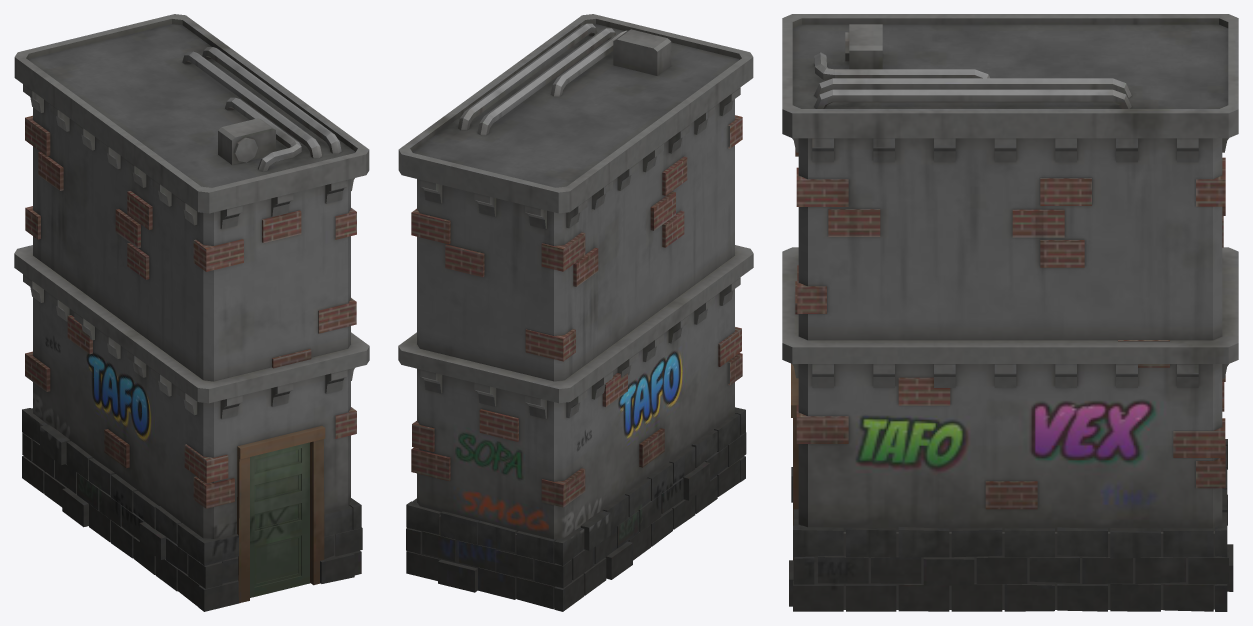
File: 2Story_Slim.glb
3 views of the same model, side by side, from view 1: azimuth 30°, elevation 25°; view 2: azimuth 150°, elevation 25°; view 3: azimuth 270°, elevation 25° (orthographic). The views are drawn at different scales.
Visible parts, largest first — view 1: 2Story_Slim_low; view 2: 2Story_Slim_low; view 3: 2Story_Slim_low.
Boxes of the visible parts, x1,y1,x2,y2 form: 2Story_Slim_low: [14, 14, 369, 611]; 2Story_Slim_low: [398, 14, 753, 611]; 2Story_Slim_low: [782, 14, 1238, 611].
Bounding box in the file's own units: 1.12 × 2.76 × 2.15.
1 material, 1 textured.
